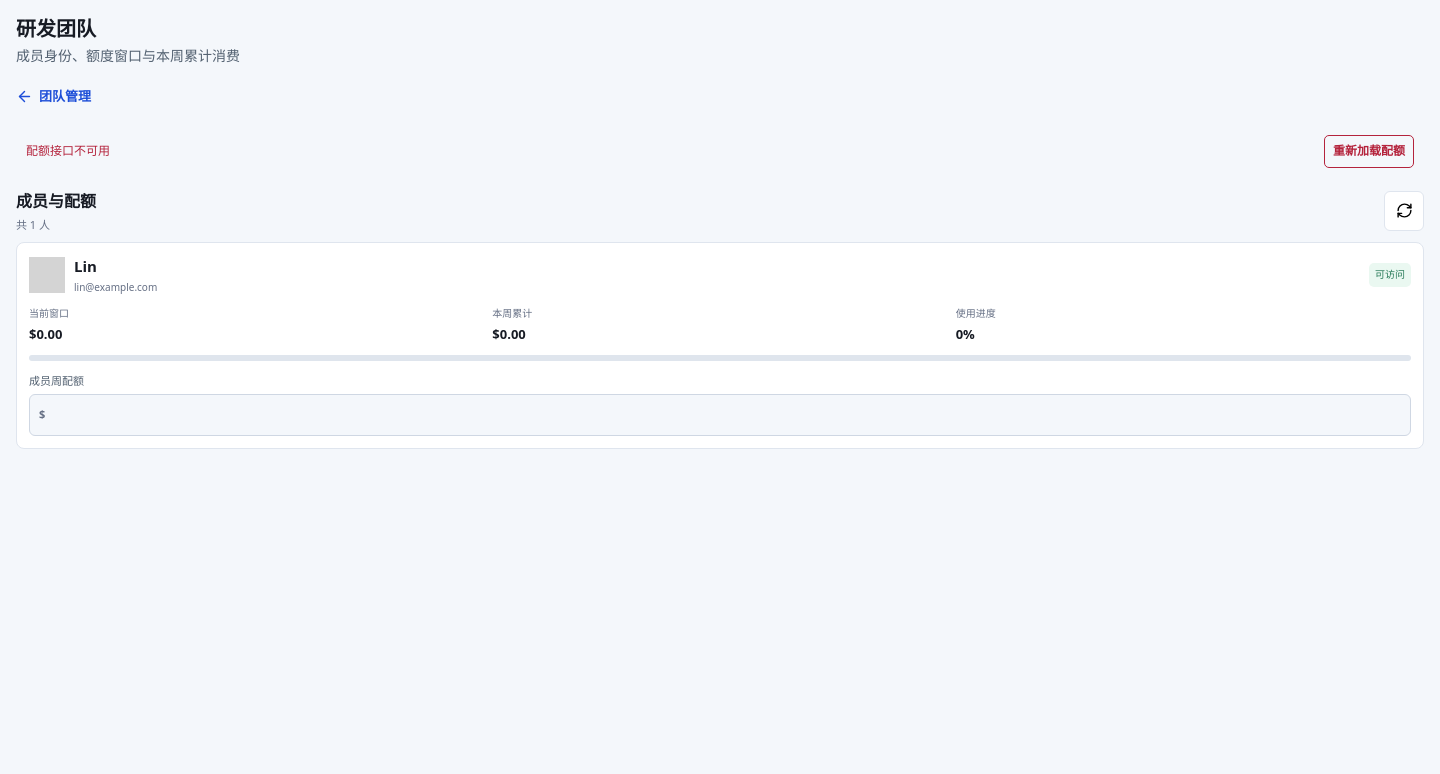
Test: MobileTeamWorkspaceView › keeps members visible when quota loading fails and retries only quota
Expected: the element with test id "mobile-team-member-7" shows "Lin", [74,256,97,276]
Expected: the message with test id "mobile-team-quota-error" shows "配额接口不可用", [26,142,110,159]
Click the button with test id "retry-mobile-team-quota" at (1369, 152), box [1324,135,1414,168]
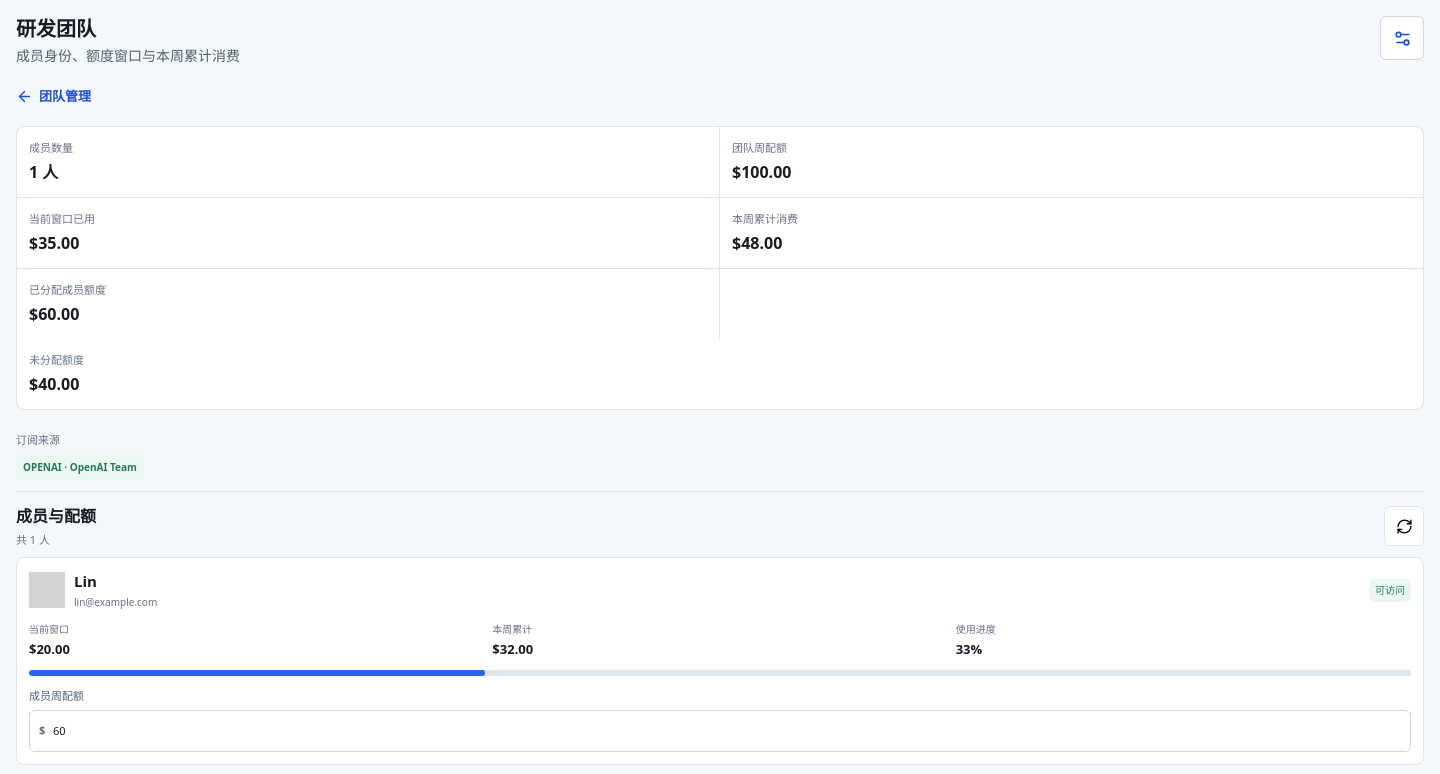
Expected: the element with test id "mobile-team-quota-summary" shows "$100.00", [732,161,792,183]
